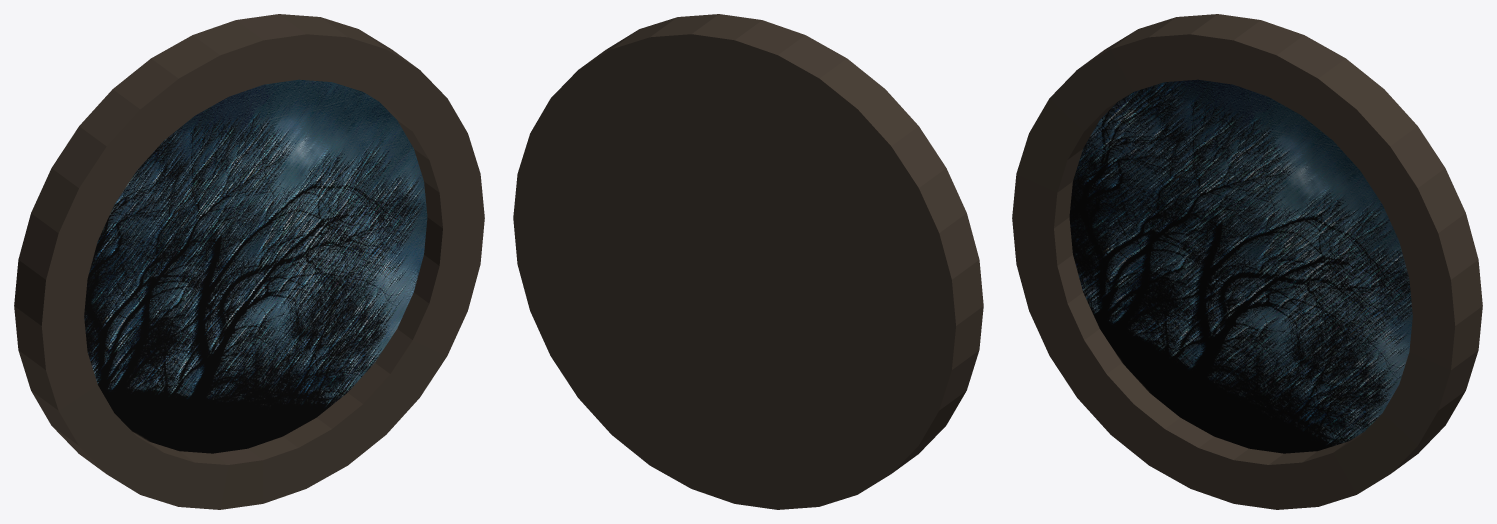
File: lukisan galeri 3.fbx
The picture shows the model from 3 angles, left to right: view 1: azimuth 30°, elevation 25°; view 2: azimuth 150°, elevation 25°; view 3: azimuth 330°, elevation 25°; orthographic projection.
Visible parts, largest first — view 1: Cylinder; view 2: Cylinder; view 3: Cylinder.
Part boxes in pixels (x1,y1,x2,y2): Cylinder: (14,14,484,509); Cylinder: (513,14,983,509); Cylinder: (1012,14,1482,509).
Bounding box in the file's own units: 200 × 200 × 22.01.
Materials: 1 (1 with a texture image).
